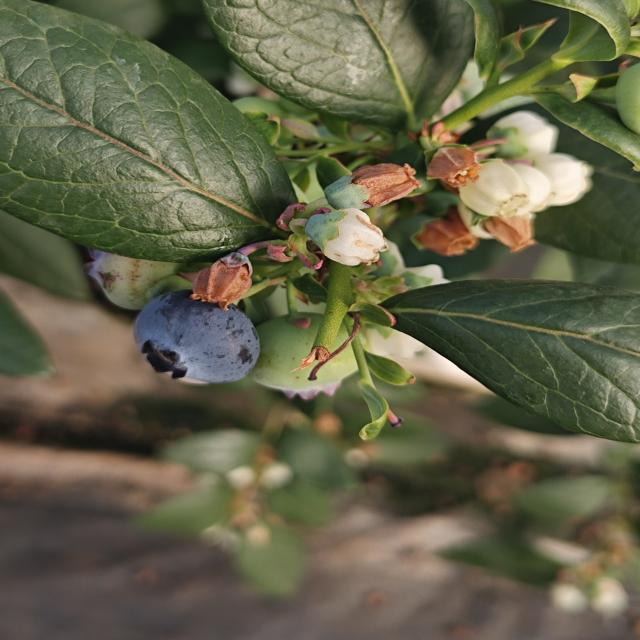ripe: (120, 288, 277, 392)
